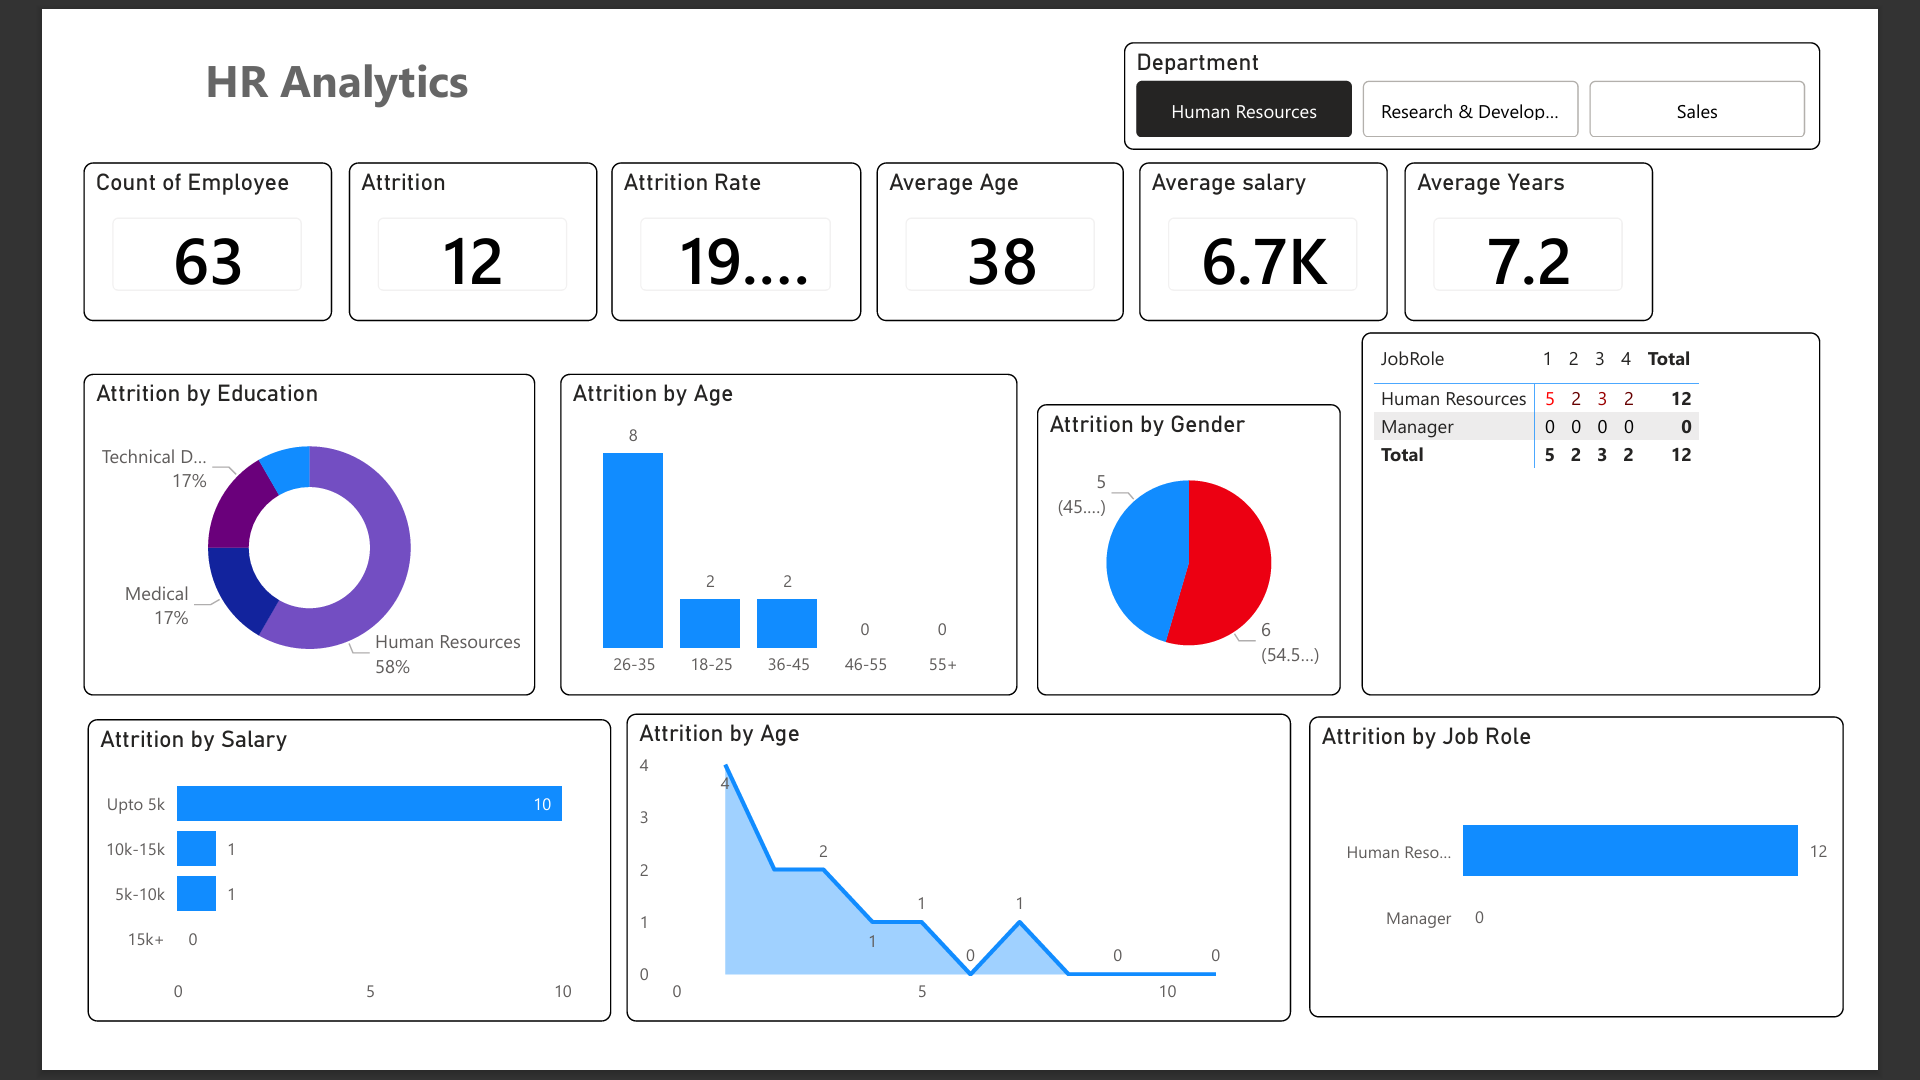

This screenshot's page, from the dashboard's own definition file:
{"tool":"powerbi","page":{"name":"Page 1","canvas":[1280,720],"ordinal":0},"visuals":[{"type":"cardVisual","title":"Count of Employee","fields":{"Data":["CountNonNull(HR_Analytics.EmpID)"]},"box":[6.1,86.8,179.8,114.9],"z":0},{"type":"cardVisual","title":"Attrition","fields":{"Data":["Sum(HR_Analytics.AttritionCount)"]},"box":[198.1,86.8,179.8,114.9],"z":1000},{"type":"cardVisual","title":"Attrition Rate","fields":{"Data":["HR_Analytics.AttritionRate"]},"box":[387.6,86.8,181,114.9],"z":2000},{"type":"cardVisual","title":"Average Age","fields":{"Data":["Avg(HR_Analytics.Age)"]},"box":[579.6,86.8,179.8,114.9],"z":3000},{"type":"cardVisual","title":"Average salary ","fields":{"Data":["Avg(HR_Analytics.MonthlyIncome)"]},"box":[770.4,86.8,179.8,114.9],"z":4000},{"type":"cardVisual","title":"Average Years","fields":{"Data":["Avg(HR_Analytics.YearsAtCompany)"]},"box":[962.4,86.8,179.8,114.9],"z":5000},{"type":"donutChart","title":"Attrition by Education","fields":{"Category":["HR_Analytics.EducationField"],"Y":["Sum(HR_Analytics.AttritionCount)"]},"box":[6.1,239.7,326.5,233.6],"z":6000},{"type":"columnChart","title":"Attrition by Age","fields":{"Category":["HR_Analytics.AgeGroup"],"Y":["Sum(HR_Analytics.AttritionCount)"]},"box":[351,239.7,331.4,233.6],"z":7000},{"type":"pivotTable","fields":{"Rows":["HR_Analytics.JobRole"],"Columns":["HR_Analytics.JobSatisfaction"],"Values":["Sum(HR_Analytics.AttritionCount)"]},"box":[930.6,210.3,332.6,262.9],"z":8000},{"type":"clusteredBarChart","title":"Attrition by Salary ","fields":{"Category":["HR_Analytics.SalarySlab"],"Y":["Sum(HR_Analytics.AttritionCount)"]},"box":[8.8,490,378.8,218.8],"z":9000},{"type":"barChart","title":"Attrition by Job Role","fields":{"Category":["HR_Analytics.JobRole"],"Y":["Sum(HR_Analytics.AttritionCount)"]},"box":[892.5,487.5,387.5,218.8],"z":10000},{"type":"areaChart","title":"Attrition by Age","fields":{"Category":["HR_Analytics.YearsAtCompany"],"Y":["Sum(HR_Analytics.AttritionCount)"]},"box":[398.8,486.2,481.2,222.5],"z":11000},{"type":"pieChart","title":"Attrition by Gender","fields":{"Category":["HR_Analytics.Gender"],"Y":["Sum(HR_Analytics.AttritionCount)"]},"box":[695.8,261.7,220.1,211.6],"z":12000},{"type":"textbox","box":[8.8,0,370,57.5],"z":13000},{"type":"advancedSlicerVisual","fields":{"Values":["HR_Analytics.Department"]},"box":[759.4,0,503.8,78.3],"z":14000}]}

Visuals, with their boxes in screenshot pixels (x1, y1, x2, y2), scaled from the page's 1280x720 canvas onto the 1920x1080 screenshot:
"Count of Employee" cardVisual: {"left": 9, "top": 130, "right": 279, "bottom": 303}
"Attrition" cardVisual: {"left": 297, "top": 130, "right": 567, "bottom": 303}
"Attrition Rate" cardVisual: {"left": 581, "top": 130, "right": 853, "bottom": 303}
"Average Age" cardVisual: {"left": 869, "top": 130, "right": 1139, "bottom": 303}
"Average salary " cardVisual: {"left": 1156, "top": 130, "right": 1425, "bottom": 303}
"Average Years" cardVisual: {"left": 1444, "top": 130, "right": 1713, "bottom": 303}
"Attrition by Education" donutChart: {"left": 9, "top": 360, "right": 499, "bottom": 710}
"Attrition by Age" columnChart: {"left": 526, "top": 360, "right": 1024, "bottom": 710}
pivotTable - HR_Analytics.JobRole x HR_Analytics.JobSatisfaction: {"left": 1396, "top": 315, "right": 1895, "bottom": 710}
"Attrition by Salary " clusteredBarChart: {"left": 13, "top": 735, "right": 581, "bottom": 1063}
"Attrition by Job Role" barChart: {"left": 1339, "top": 731, "right": 1919, "bottom": 1059}
"Attrition by Age" areaChart: {"left": 598, "top": 729, "right": 1320, "bottom": 1063}
"Attrition by Gender" pieChart: {"left": 1044, "top": 393, "right": 1374, "bottom": 710}
textbox: {"left": 13, "top": 0, "right": 568, "bottom": 86}
advancedSlicerVisual - HR_Analytics.Department: {"left": 1139, "top": 0, "right": 1895, "bottom": 117}
